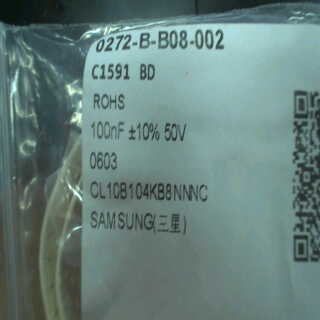100nF: (88, 119, 126, 143)
